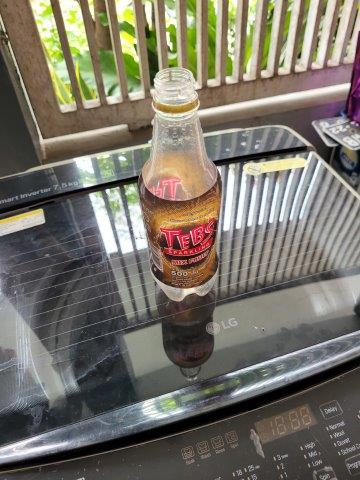botolplastik: (140, 70, 219, 304)
